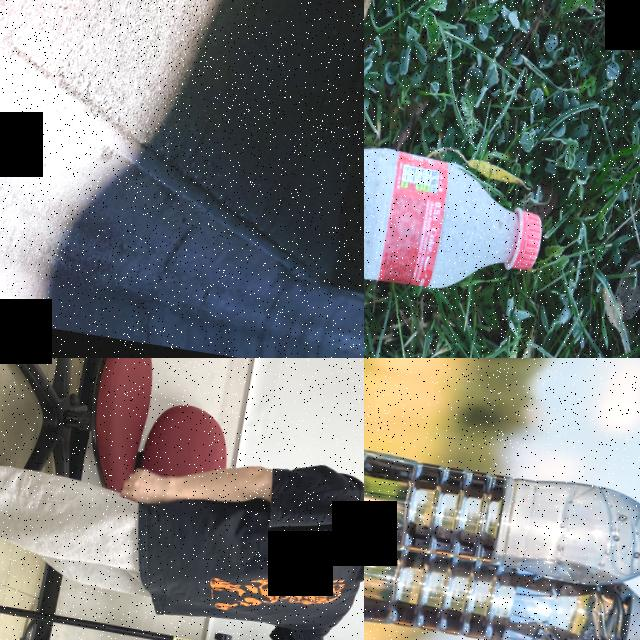bottle: (364, 409, 640, 598), (364, 126, 550, 307), (364, 530, 640, 640)
